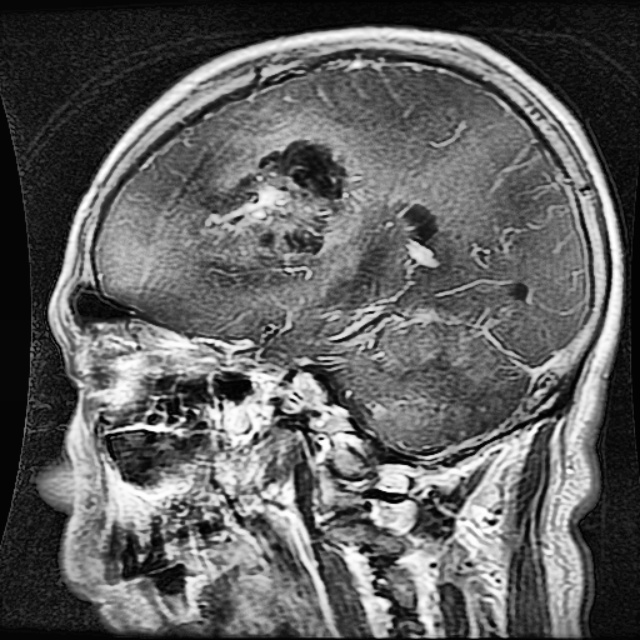Meningioma: (198, 139, 353, 255)
